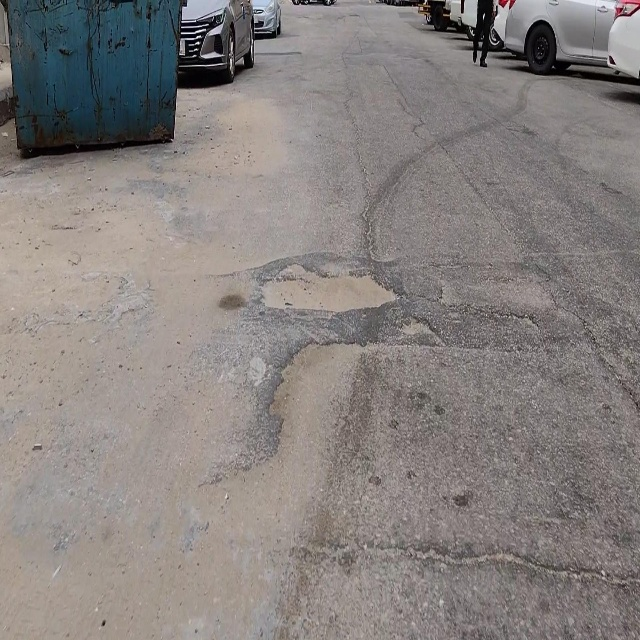pothole: (257, 257, 407, 320)
